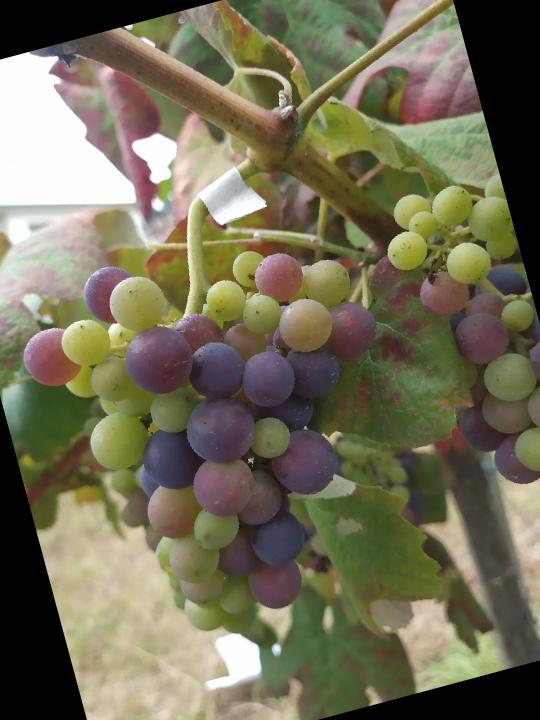grape: (0, 200, 446, 672), (370, 167, 540, 527)
